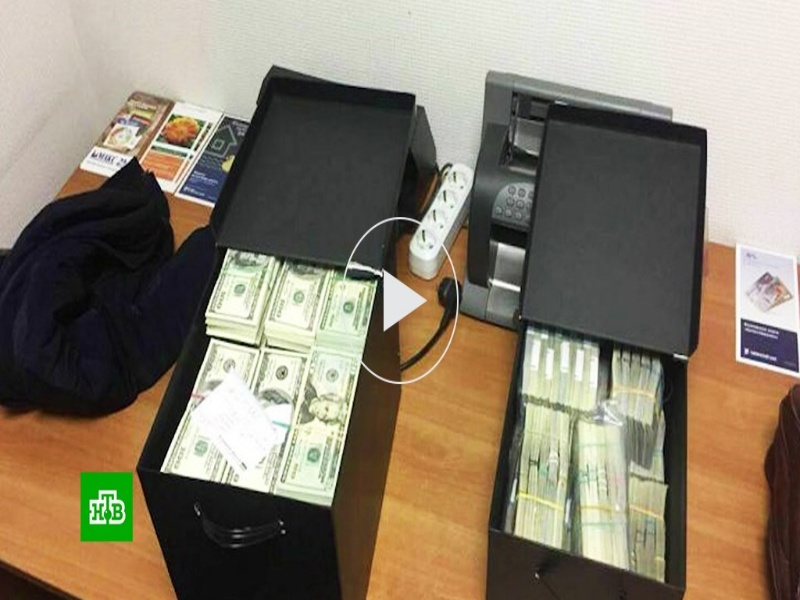cash: (163, 247, 375, 504), (504, 323, 669, 583)
